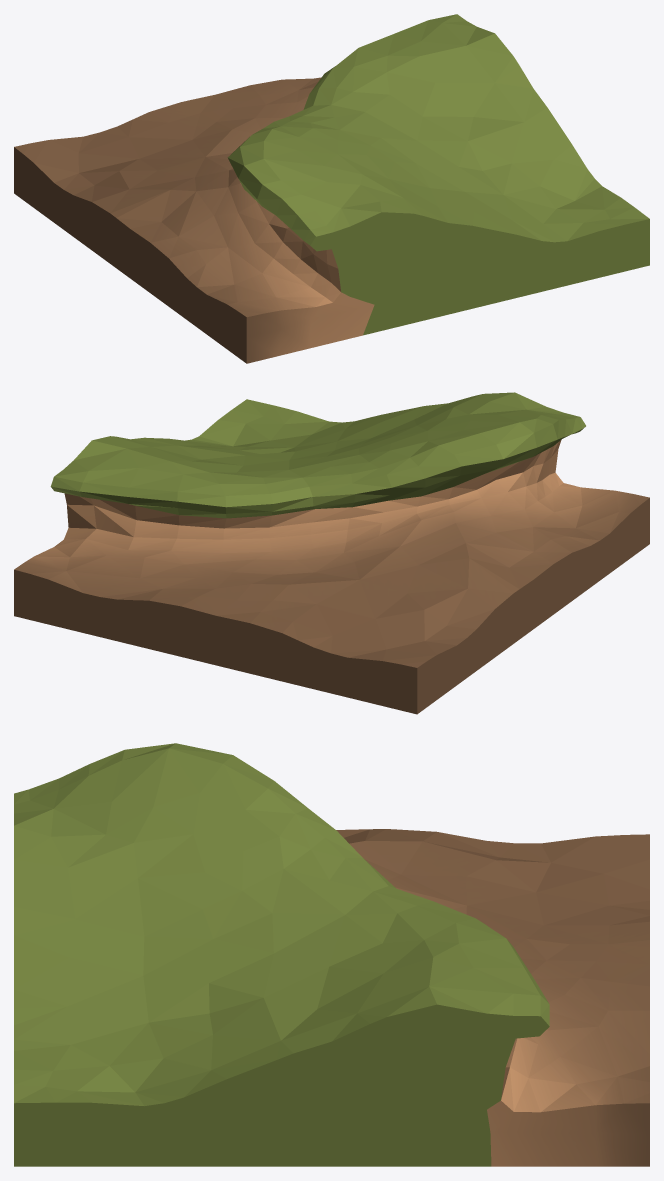
The model's file is Terrian_Cliff_Hill_Bend-01.fbx.
The picture shows the model from 3 angles, top to bottom: view 1: azimuth 30°, elevation 25°; view 2: azimuth 150°, elevation 25°; view 3: azimuth 270°, elevation 25°; orthographic projection. The views are drawn at different scales.
Visible parts, largest first — view 1: Terrian_CliffGrass_Hill_Bend-01; view 2: Terrian_CliffGrass_Hill_Bend-01; view 3: Terrian_CliffGrass_Hill_Bend-01.
Boxes of the visible parts, x1,y1,x2,y2 form: Terrian_CliffGrass_Hill_Bend-01: (14,14,649,363); Terrian_CliffGrass_Hill_Bend-01: (14,392,649,714); Terrian_CliffGrass_Hill_Bend-01: (14,743,649,1166).
Bounding box in the file's own units: 3600 × 1241 × 3600.
1 material, 1 textured.
